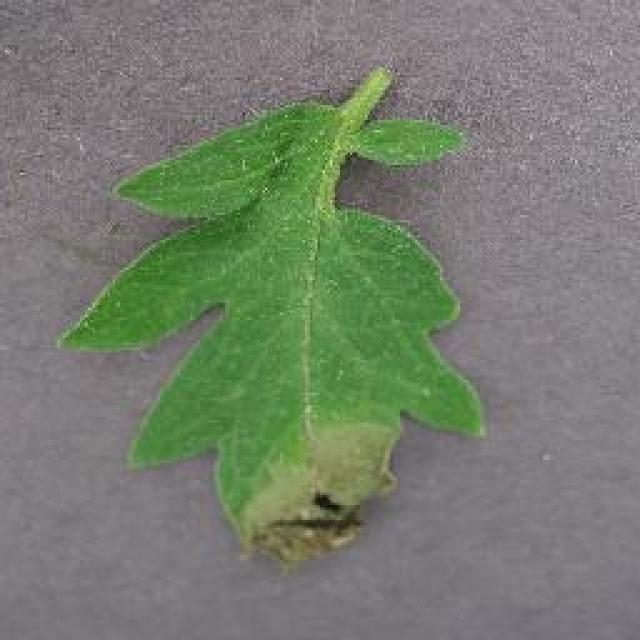Tomato___Late_blight: (55, 68, 488, 578)
